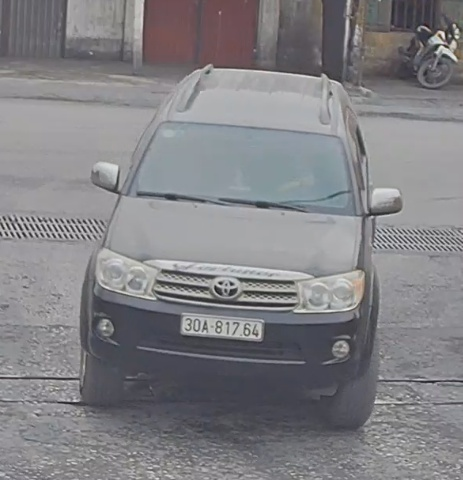vehicle plate: (177, 307, 279, 343)
